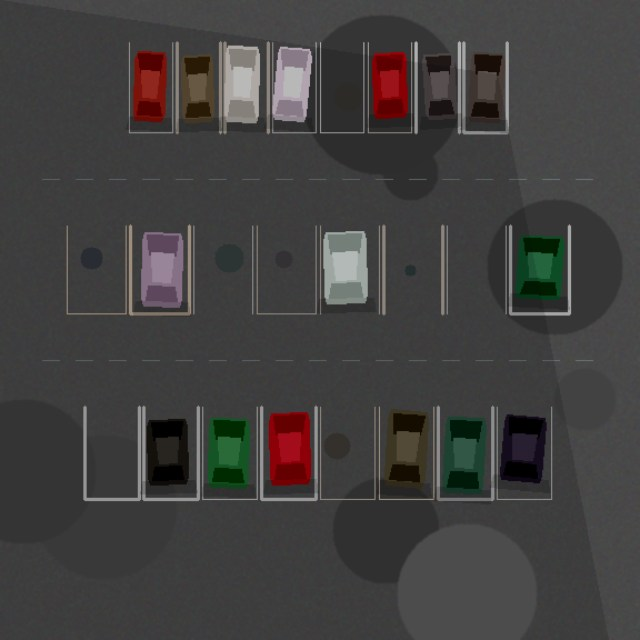space-empty: (67, 226, 126, 313), (193, 226, 252, 313), (257, 226, 316, 313), (383, 226, 442, 313), (447, 226, 506, 313), (84, 407, 139, 499), (320, 407, 374, 499), (320, 42, 363, 132)
space-occupied: (130, 226, 189, 313), (320, 226, 379, 313), (510, 226, 569, 313), (143, 407, 198, 499), (202, 407, 257, 499), (261, 407, 316, 499), (379, 407, 433, 499), (438, 407, 492, 499), (497, 407, 551, 499), (224, 42, 268, 132), (272, 42, 316, 132), (463, 42, 507, 132), (129, 42, 172, 132), (177, 42, 220, 132), (368, 42, 411, 132), (416, 42, 459, 132)
